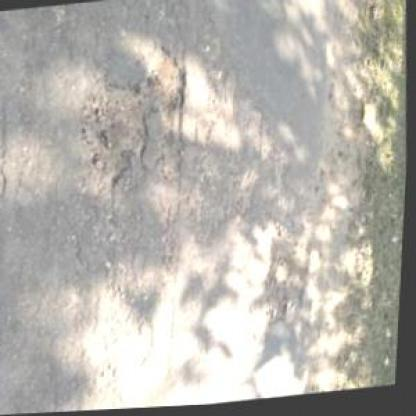pothole: (75, 76, 154, 192), (259, 218, 319, 333), (140, 44, 190, 118)
